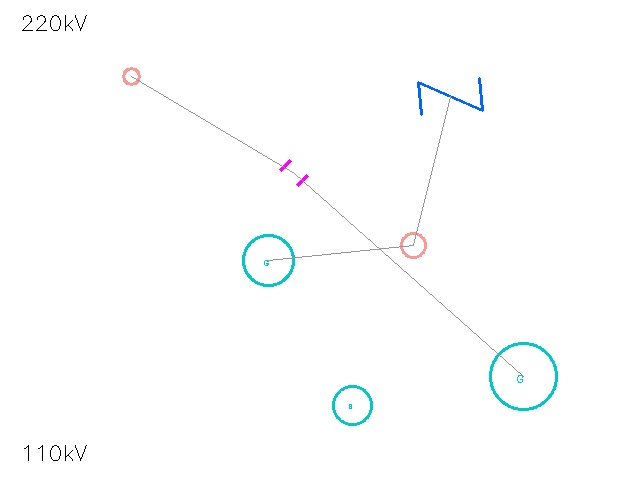capacitor: (275, 154, 313, 192)
circuit_breaker: (416, 62, 484, 130)
generator: (490, 343, 556, 409), (243, 235, 293, 285), (333, 386, 371, 424)
surge_arrester: (114, 59, 148, 93)
voltage_transformer: (389, 221, 437, 269)
